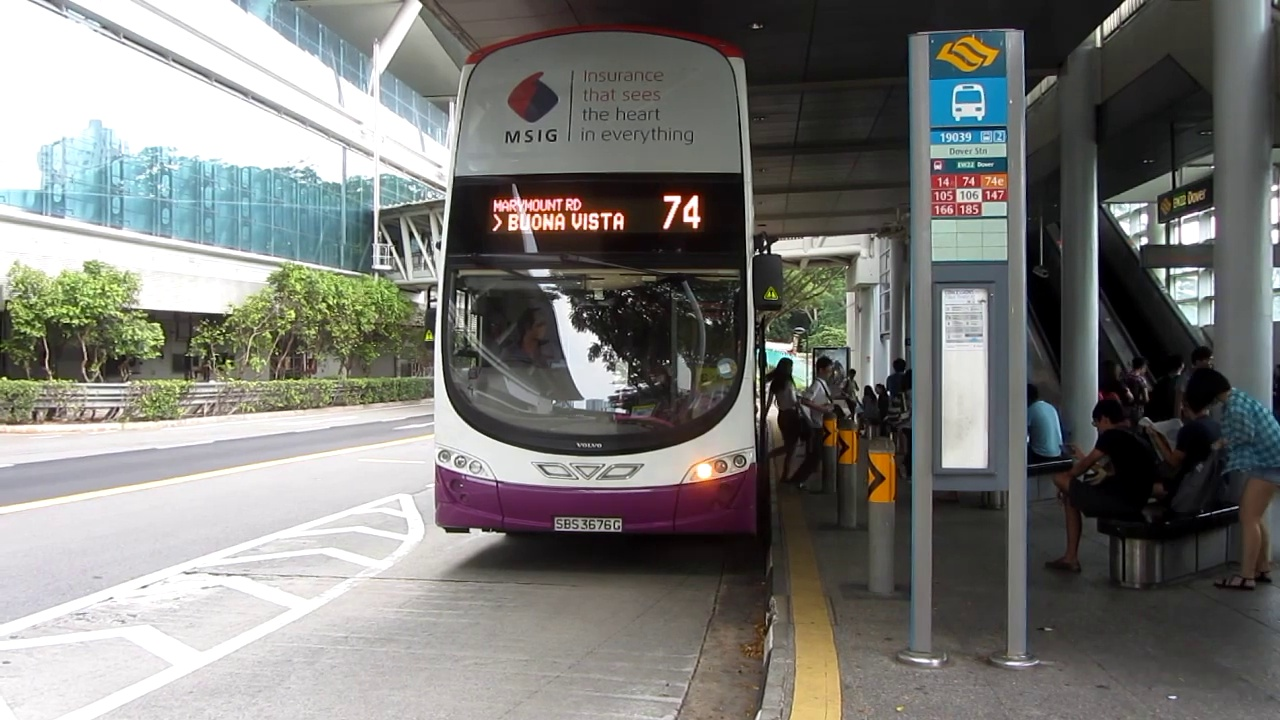bus panel: (487, 193, 706, 234)
